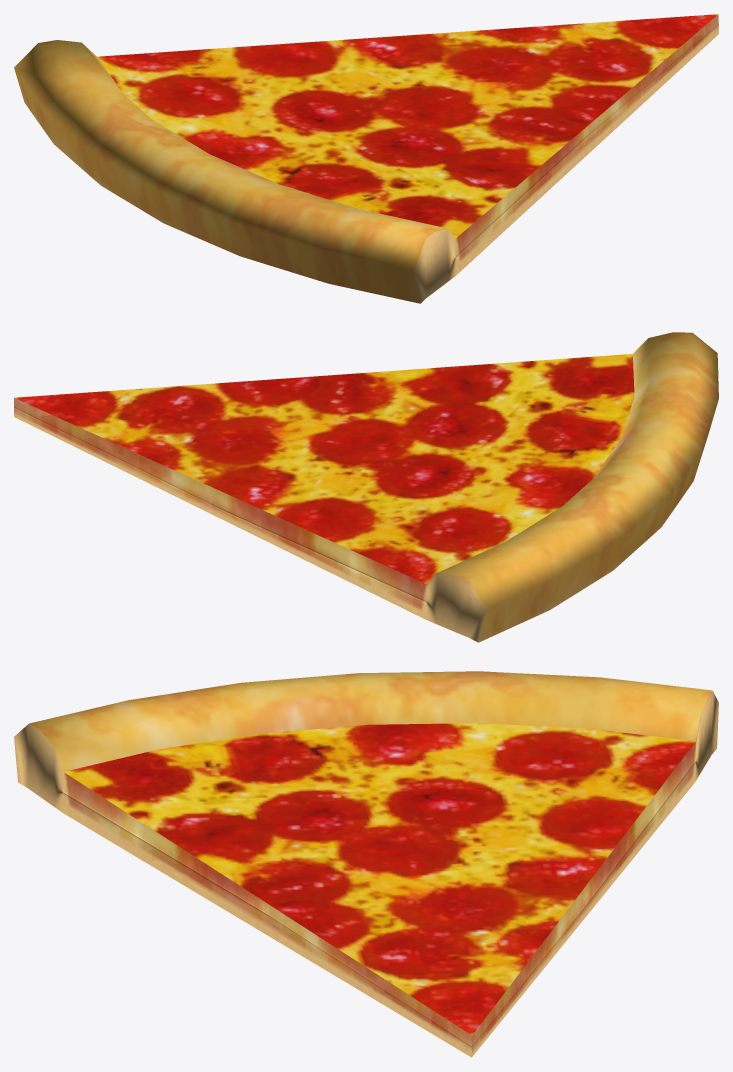
File: demopizza.glb
3 views of the same model, one above another, from view 1: azimuth 30°, elevation 25°; view 2: azimuth 150°, elevation 25°; view 3: azimuth 270°, elevation 25° (orthographic). The views are drawn at different scales.
Parts seen in each view (by area): view 1: pizza; view 2: pizza; view 3: pizza.
Boxes of the visible parts, box(x1,y1,x2,y2) form: pizza: box(14, 14, 718, 303); pizza: box(14, 332, 718, 642); pizza: box(14, 671, 718, 1057).
Size of the model in its own units: 0.1281 by 0.0133 by 0.1128.
Materials: 1 (1 with a texture image).
